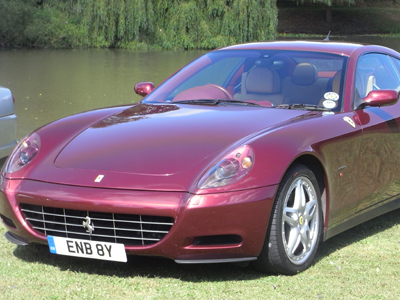licencePlate: (45, 235, 132, 268)
